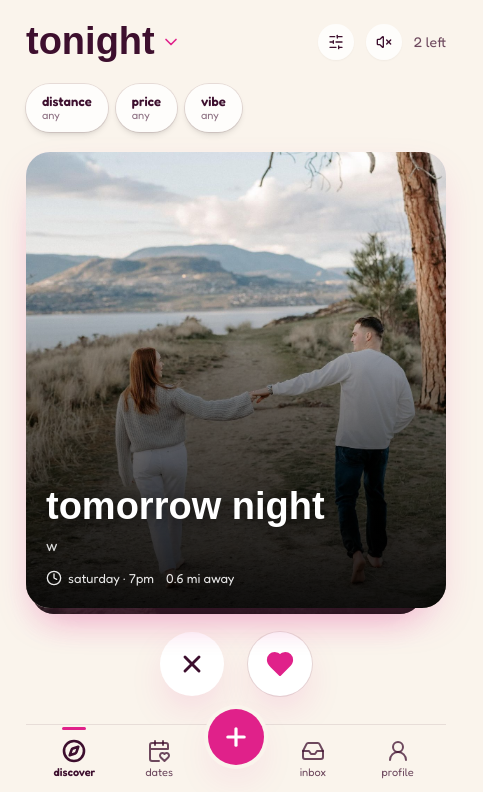
Test: SwipeDeck — pick a day › choosing a day filters the deck to nights on that day and updates the heading
Check: the text "2 left" is shown, box [414, 31, 446, 52]
Click the button with aria-label "showing tonight".
click(103, 42)  # box [26, 20, 181, 64]
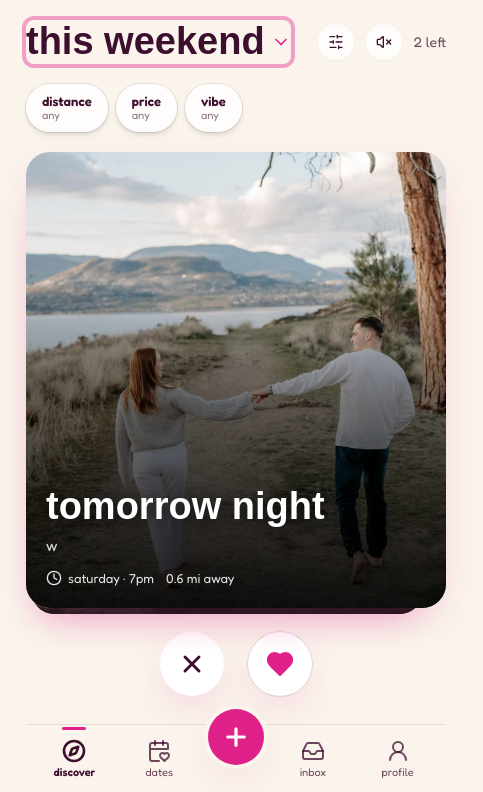
Click the button with aria-label "showing this weekend".
click(158, 42)  # box [26, 20, 291, 64]
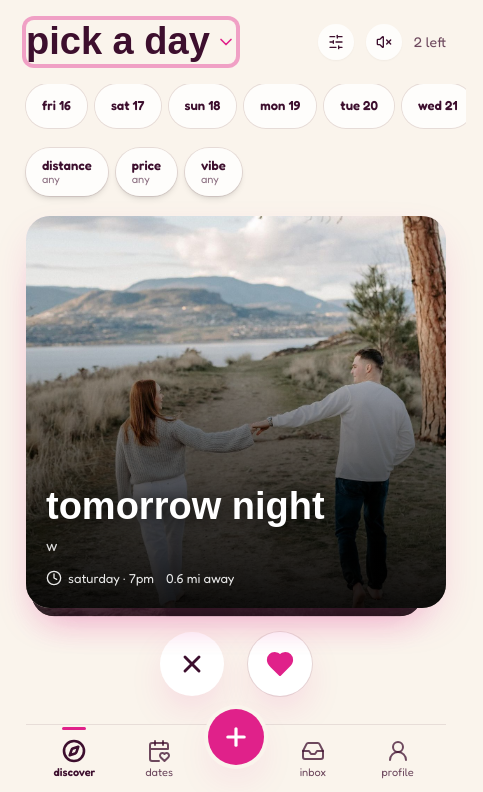
Click the button "sat 17".
click(128, 106)  # box [95, 84, 161, 128]
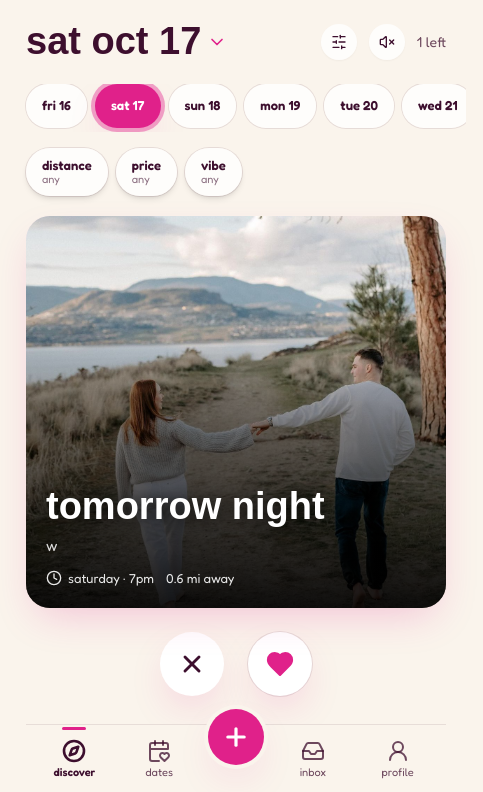
Check: the heading "tomorrow night" is shown, box [46, 485, 325, 527]
Check: the text "1 left" is shown, box [417, 31, 446, 52]
